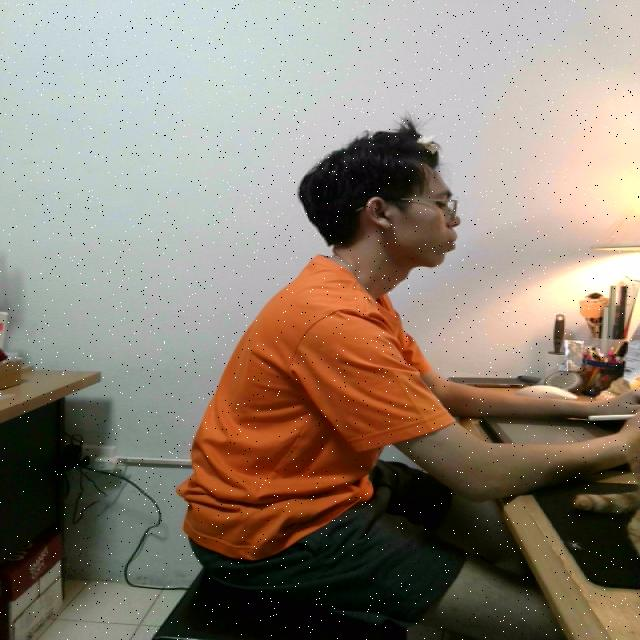Bad: (158, 126, 492, 612)
